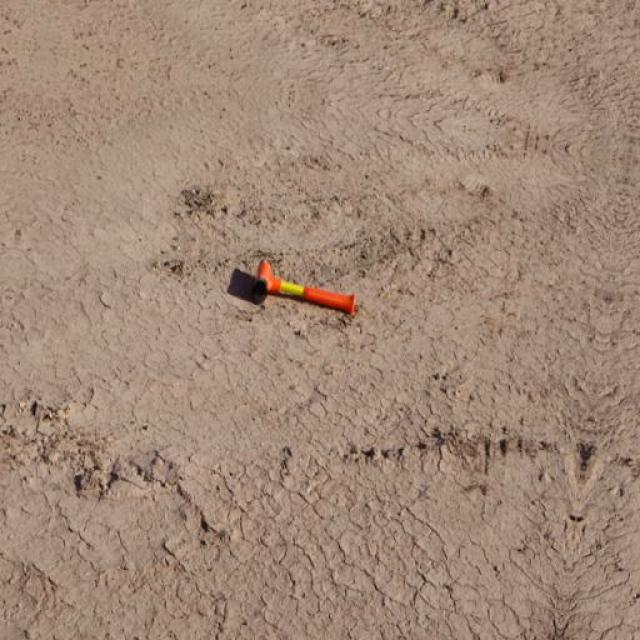mallet: (249, 258, 360, 318)
